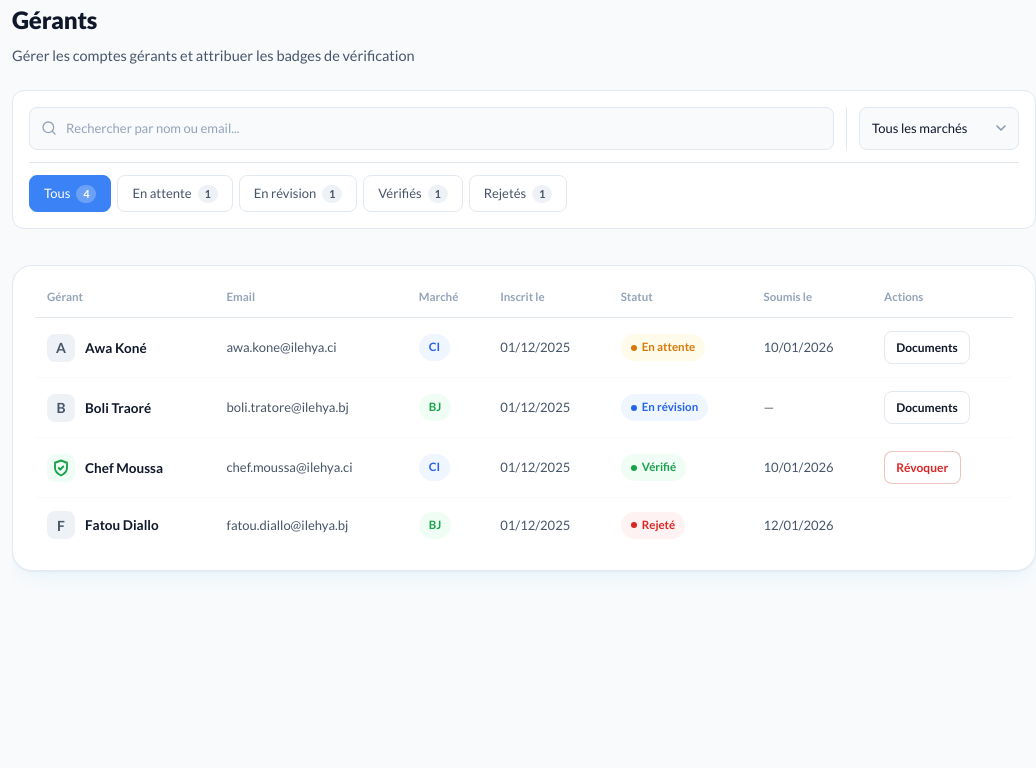
AdminGerantsPage › affiche une erreur quand la révocation échoue
The image size is (1036, 768).
Click the button "Révoquer": (922, 468) 884,451 -> 960,484
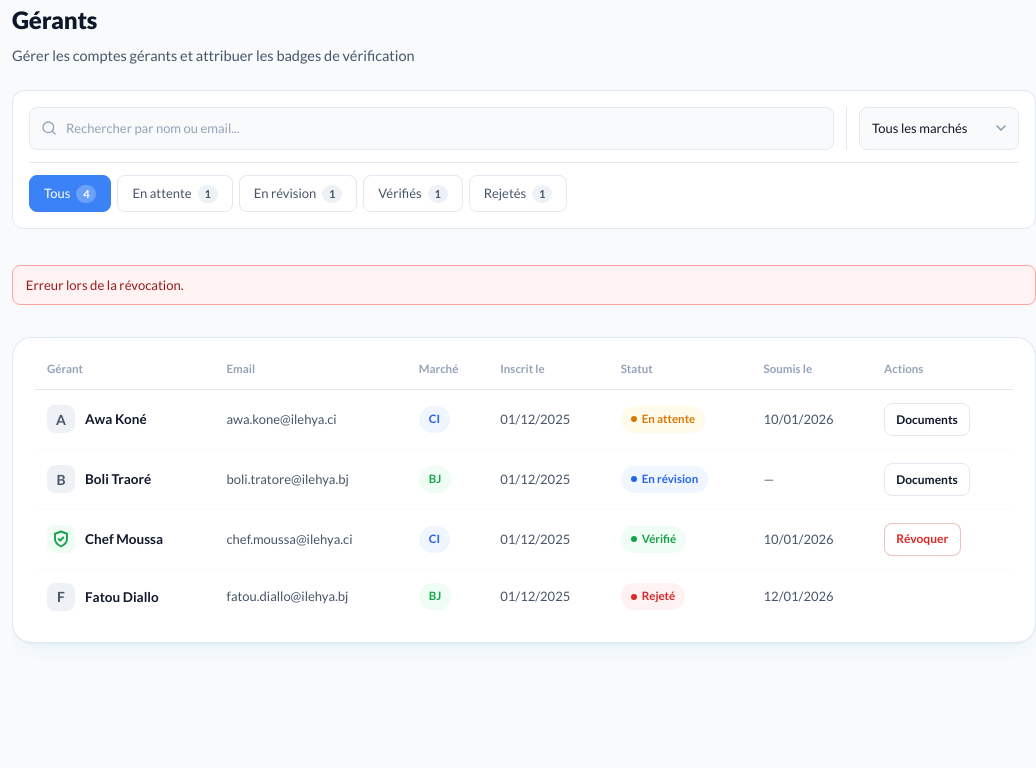
Expected: the button "Révoquer" is shown, 884,523 -> 960,556
Result: the text "Erreur lors de la révocation." is shown at 12,265 -> 1035,305
